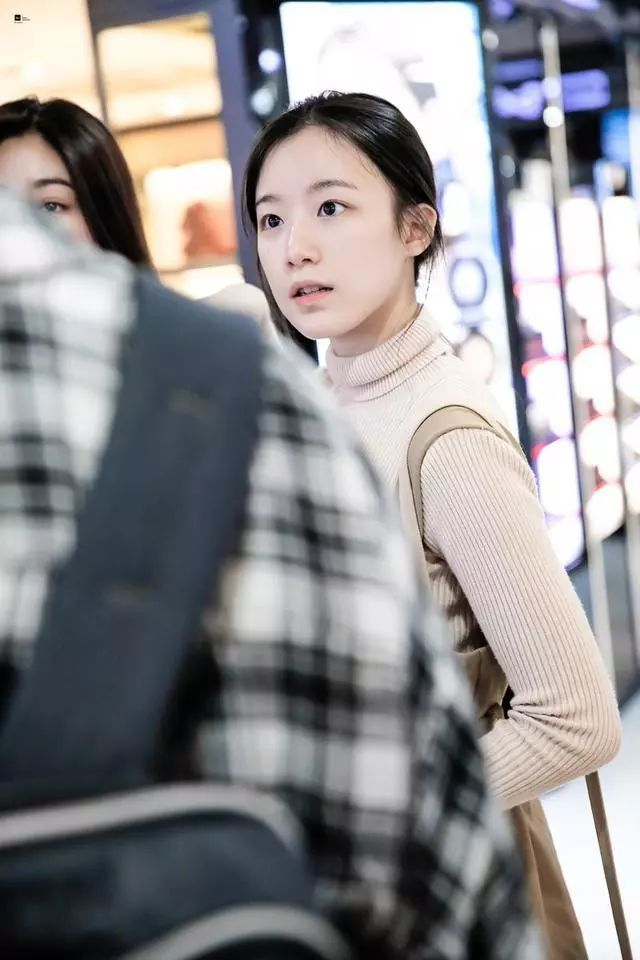people: (231, 92, 490, 960)
